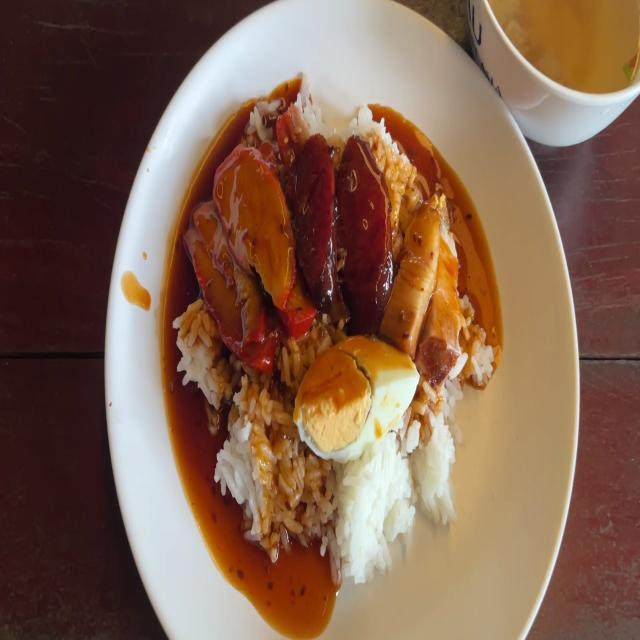01boiled_egg: (296, 337, 418, 464)
01chainese_sausage: (294, 132, 392, 324), (346, 137, 387, 321), (294, 132, 336, 299)
01crispy_pork: (397, 184, 462, 374), (390, 194, 436, 345), (428, 193, 466, 358)
01red_pork: (188, 146, 306, 367), (221, 145, 311, 335), (188, 197, 273, 373), (216, 150, 290, 296), (201, 202, 267, 336)
01red_pork_and_crispy_pork: (173, 82, 499, 570)
01rice: (221, 390, 307, 540), (337, 445, 428, 571), (171, 303, 220, 405), (419, 412, 459, 520), (300, 82, 380, 130), (476, 329, 486, 384)
